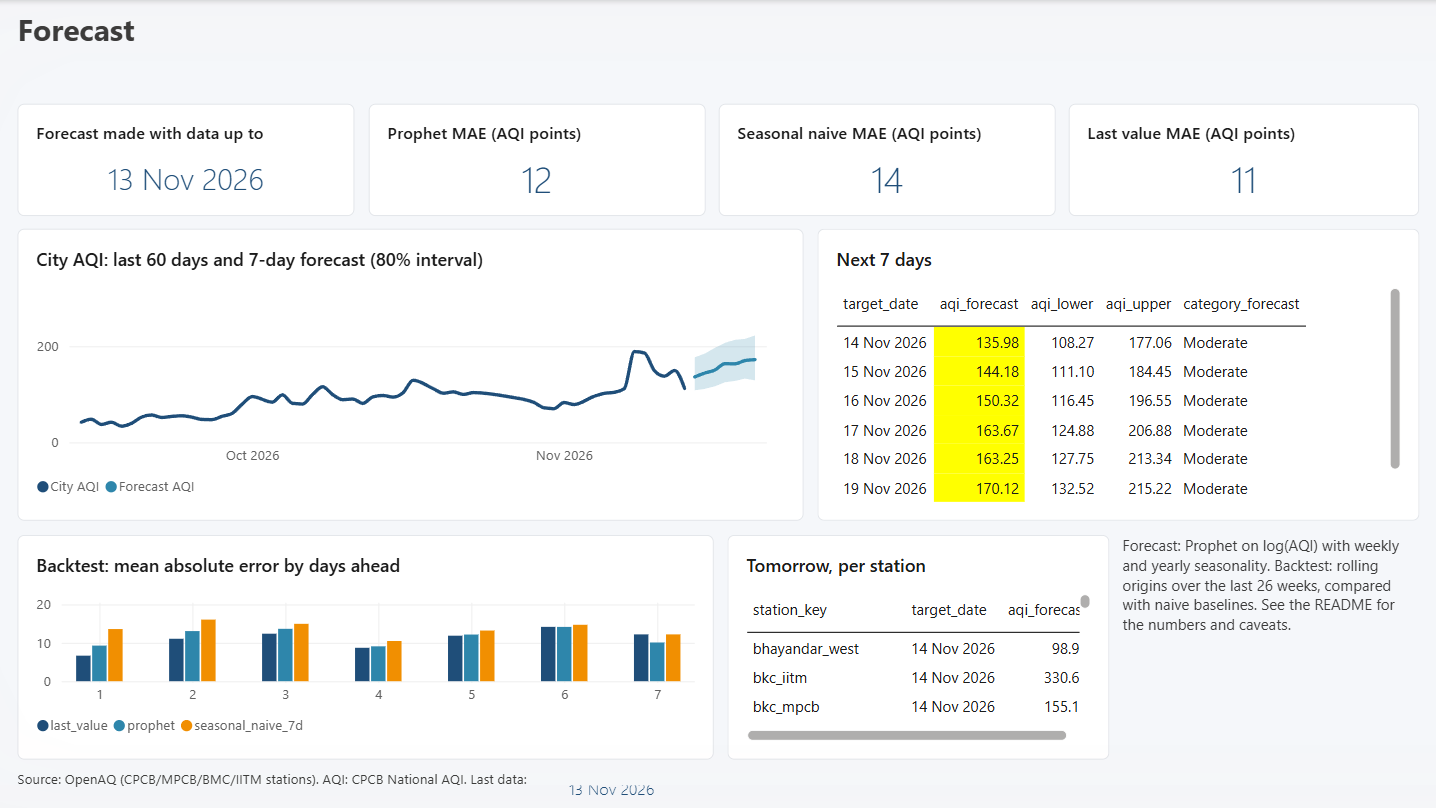

This screenshot's page, from the dashboard's own definition file:
{"tool":"powerbi","page":{"name":"Forecast","canvas":[1280,720],"ordinal":4},"visuals":[{"type":"textbox","box":[16,8,600,48],"z":0},{"type":"textbox","box":[16,684,462,30],"z":1000},{"type":"card","fields":{"Values":["_Measures.Latest Day"]},"box":[470,678,150,40],"z":2000},{"type":"card","title":"Forecast made with data up to","fields":{"Values":["_Measures.Forecast Run Date"]},"box":[16,92,300,100],"z":3000},{"type":"card","title":"Prophet MAE (AQI points)","fields":{"Values":["_Measures.Prophet MAE (city)"]},"box":[328,92,300,100],"z":4000},{"type":"card","title":"Seasonal naive MAE (AQI points)","fields":{"Values":["_Measures.Seasonal Naive MAE (city)"]},"box":[640,92,300,100],"z":5000},{"type":"card","title":"Last value MAE (AQI points)","fields":{"Values":["_Measures.Last Value MAE (city)"]},"box":[952,92,312,100],"z":6000},{"type":"lineChart","title":"City AQI: last 60 days and 7-day forecast (80% interval)","fields":{"Category":["dim_date.day"],"Y":["_Measures.City AQI","_Measures.Forecast AQI"]},"box":[16,204,700,260],"z":7000},{"type":"tableEx","title":"Next 7 days","fields":{"Values":["latest_forecast.target_date","latest_forecast.aqi_forecast","latest_forecast.aqi_lower","latest_forecast.aqi_upper","latest_forecast.category_forecast"]},"box":[728,204,536,260],"z":8000},{"type":"clusteredColumnChart","title":"Backtest: mean absolute error by days ahead","fields":{"Category":["backtest_summary.horizon_days"],"Series":["backtest_summary.model"],"Y":["Avg(backtest_summary.mae)"]},"box":[16,476,620,200],"z":9000},{"type":"tableEx","title":"Tomorrow, per station","fields":{"Values":["latest_forecast.station_key","latest_forecast.target_date","latest_forecast.aqi_forecast"]},"box":[648,476,340,200],"z":10000},{"type":"textbox","box":[1000,476,264,200],"z":11000}]}

Visuals, with their boxes in screenshot pixels (x1, y1, x2, y2), scaled from the page's 1280x720 canvas onto the 1436x808 screenshot:
textbox: x1=18 y1=9 x2=691 y2=63
textbox: x1=18 y1=768 x2=536 y2=801
card - _Measures.Latest Day: x1=527 y1=761 x2=696 y2=806
"Forecast made with data up to" card: x1=18 y1=103 x2=355 y2=215
"Prophet MAE (AQI points)" card: x1=368 y1=103 x2=705 y2=215
"Seasonal naive MAE (AQI points)" card: x1=718 y1=103 x2=1055 y2=215
"Last value MAE (AQI points)" card: x1=1068 y1=103 x2=1418 y2=215
"City AQI: last 60 days and 7-day forecast (80% interval)" lineChart: x1=18 y1=229 x2=803 y2=521
"Next 7 days" tableEx: x1=817 y1=229 x2=1418 y2=521
"Backtest: mean absolute error by days ahead" clusteredColumnChart: x1=18 y1=534 x2=714 y2=759
"Tomorrow, per station" tableEx: x1=727 y1=534 x2=1108 y2=759
textbox: x1=1122 y1=534 x2=1418 y2=759
